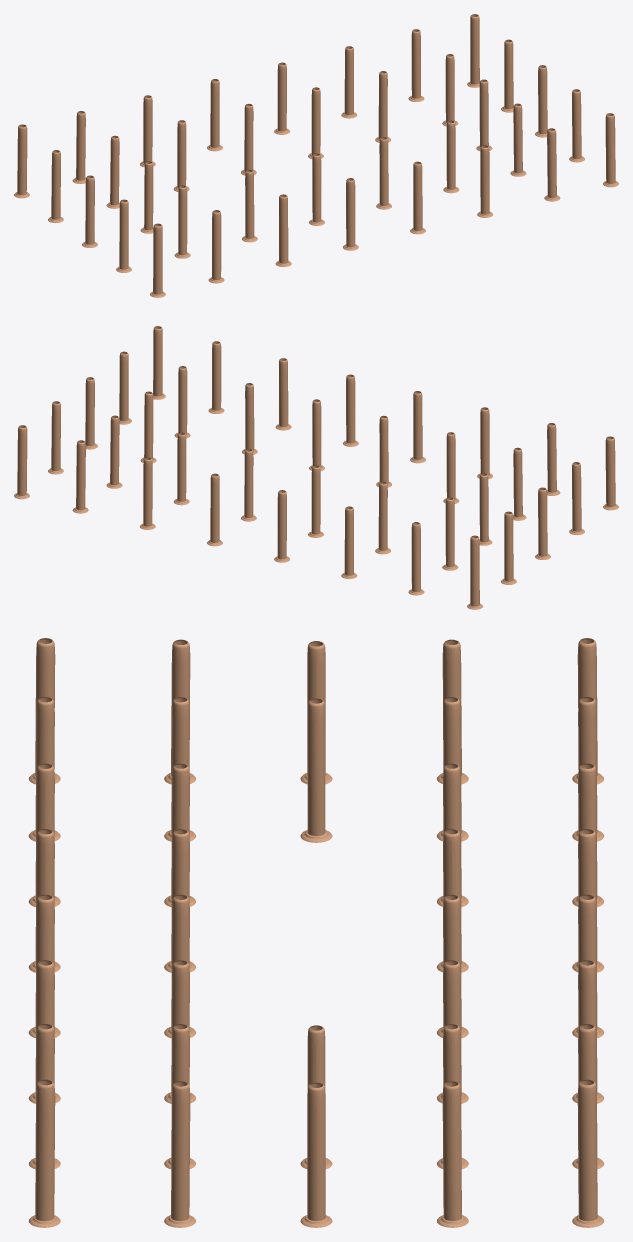
3 renders of one model, top to bottom at view 1: azimuth 30°, elevation 25°; view 2: azimuth 150°, elevation 25°; view 3: azimuth 270°, elevation 25°, orthographic. The views are drawn at different scales.
Visible parts, largest first — view 1: Layer_8; view 2: Layer_8; view 3: Layer_8.
Part boxes in pixels (<box>): Layer_8: <box>14,14,618,297</box>; Layer_8: <box>14,326,618,609</box>; Layer_8: <box>28,638,604,1227</box>.
Bounding box in the file's own units: 10 × 1.42 × 5.34.
